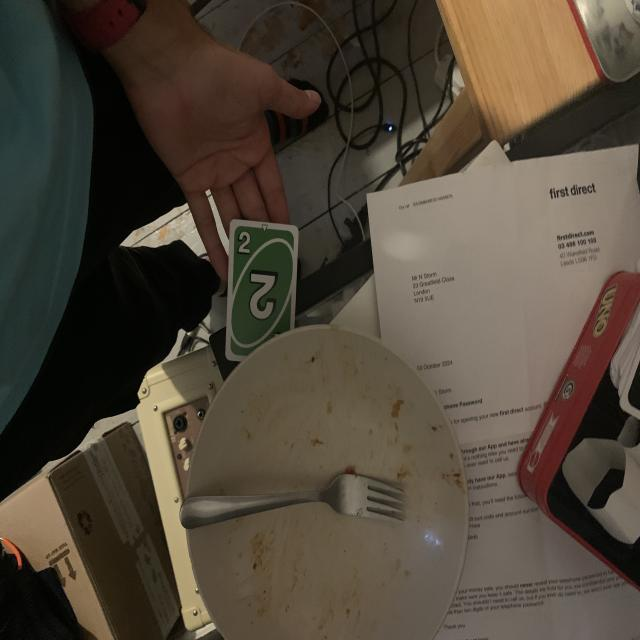lgreen-2: (235, 228, 251, 258)
